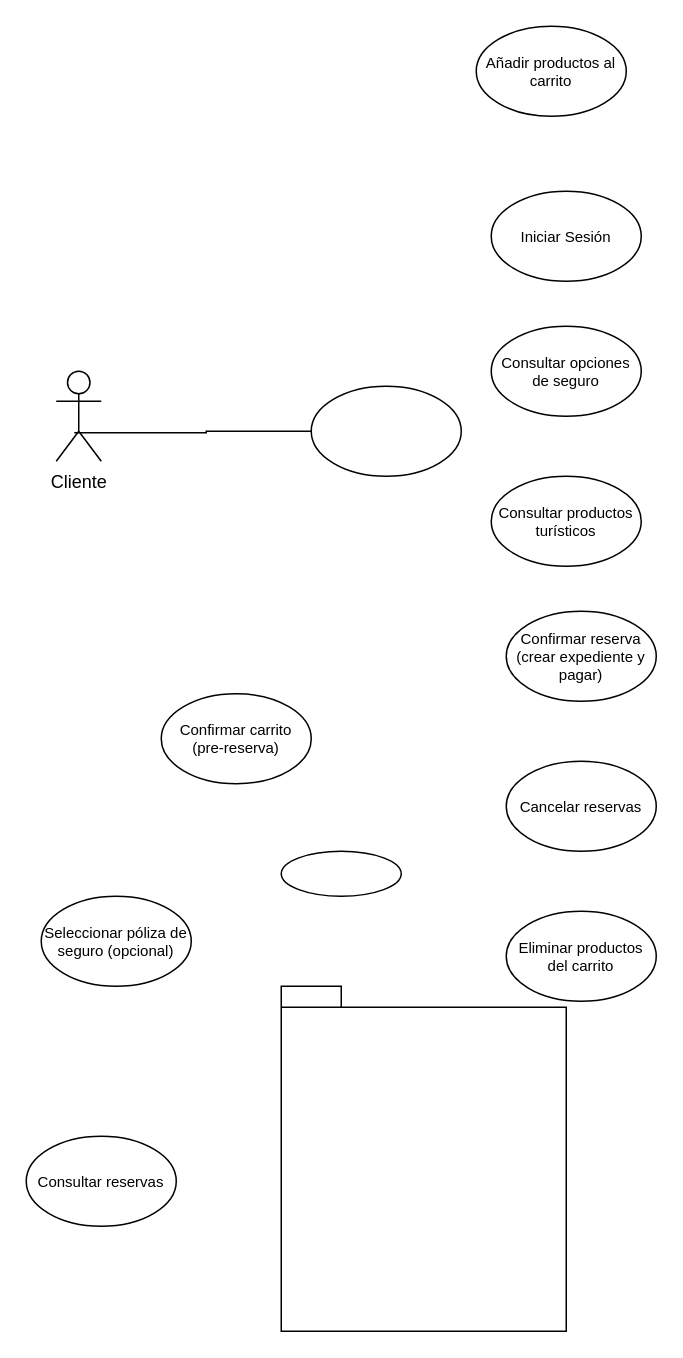
Image size: 683x1358. Some labels were removed from this diagram. The box of each missing label's shape, as (x1, y1, x2, y2) in pixels:
package: (280, 985, 566, 1331)
Registrarse: (310, 385, 461, 476)
Use Case: (280, 850, 401, 896)
